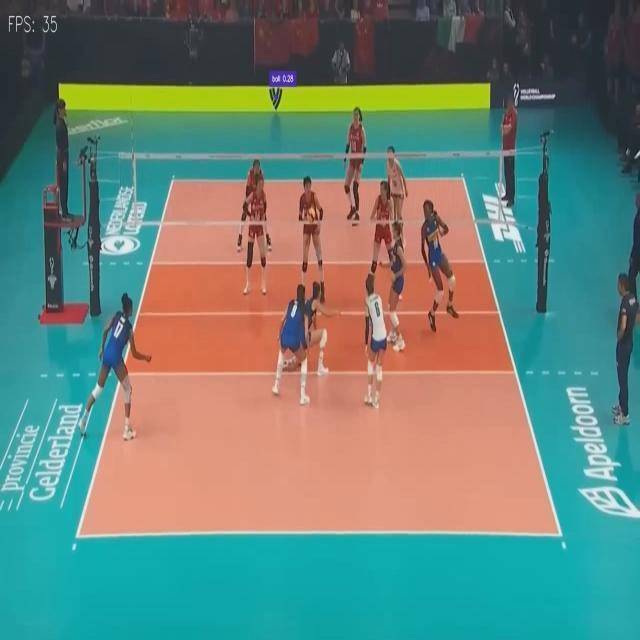volleyball: (306, 207, 315, 222)
